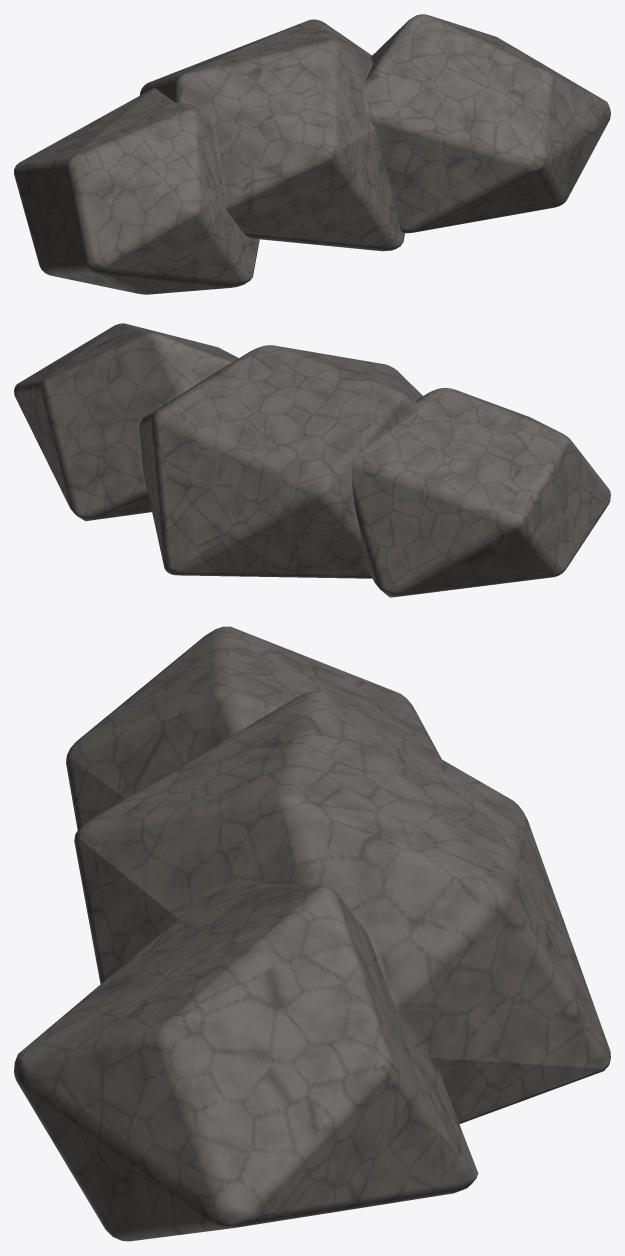
The model's file is rocks.glb.
3 renders of one model, top to bottom at view 1: azimuth 30°, elevation 25°; view 2: azimuth 150°, elevation 25°; view 3: azimuth 270°, elevation 25°, orthographic. The views are drawn at different scales.
Parts seen in each view (by area): view 1: Prop_rocks; view 2: Prop_rocks; view 3: Prop_rocks.
Part boxes in pixels (<box>): Prop_rocks: <box>14,14,610,294</box>; Prop_rocks: <box>14,323,610,597</box>; Prop_rocks: <box>14,626,610,1241</box>.
Size of the model in its own units: 3.17 by 0.9947 by 1.72.
1 material, 1 textured.
